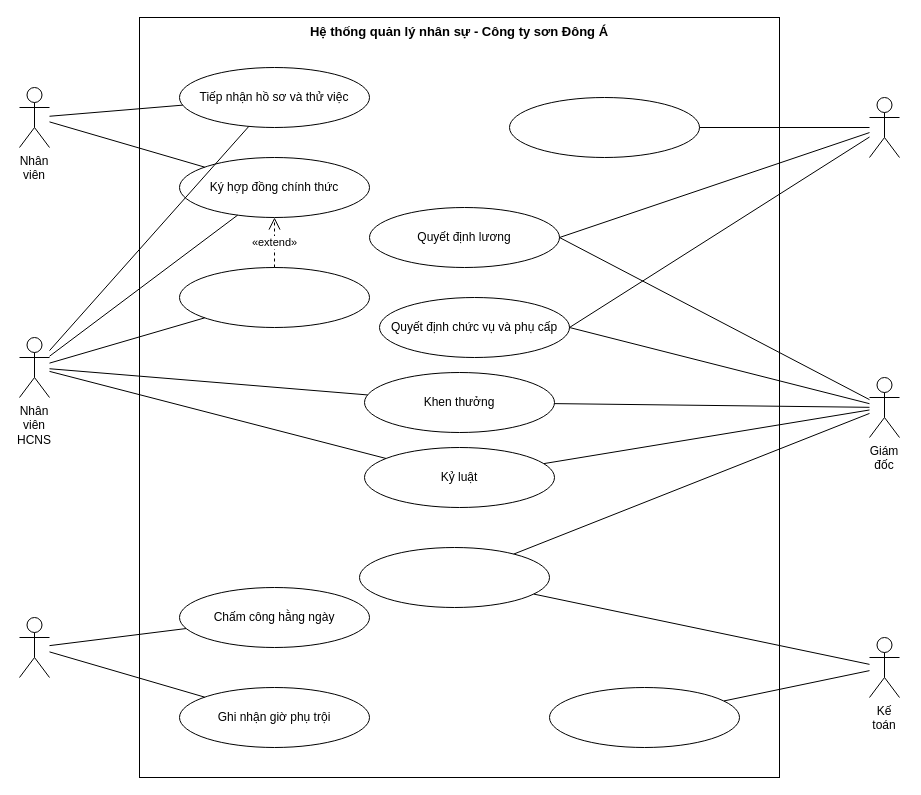
The diagram is 921 pixels wide and 795 high, and some of its shapes have lost their labels. The centre of each missing label's shape, as x and y in pixels:
Ban chấm công: point 34,647
Báo cáo nhân sự - tiền lương: point 644,717
Lập hồ sơ BHXH - BHYT: point 274,297
Lập kế hoạch phân công tuần: point 604,127
Trưởng phòng: point 884,127
Tính bảng lương tháng: point 454,577
